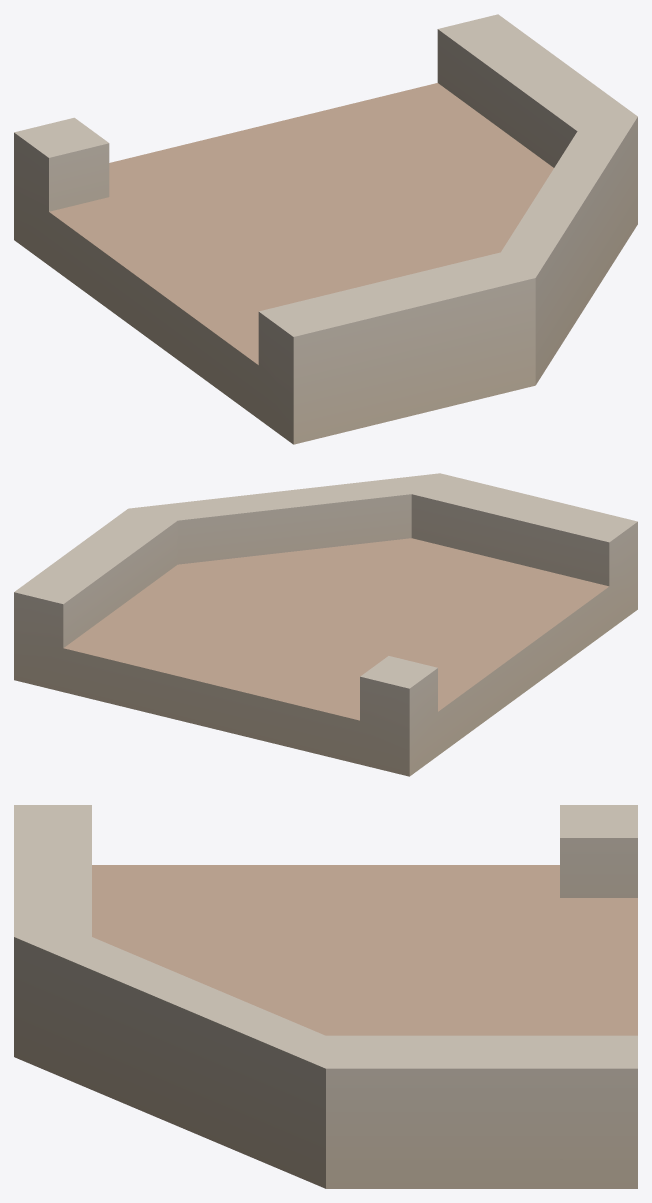
Rendered from roof-flat-border-corner-slanted-passage.glb.
3 renders of one model, top to bottom at view 1: azimuth 30°, elevation 25°; view 2: azimuth 150°, elevation 25°; view 3: azimuth 270°, elevation 25°, orthographic. The views are drawn at different scales.
Visible parts, largest first — view 1: roof-flat-border-corner-slanted-passage; view 2: roof-flat-border-corner-slanted-passage; view 3: roof-flat-border-corner-slanted-passage.
Part boxes in pixels (x1,y1,x2,y2): roof-flat-border-corner-slanted-passage: [14, 14, 637, 444]; roof-flat-border-corner-slanted-passage: [14, 473, 637, 776]; roof-flat-border-corner-slanted-passage: [14, 805, 637, 1188].
Bounding box in the file's own units: 1 × 0.2125 × 1.
